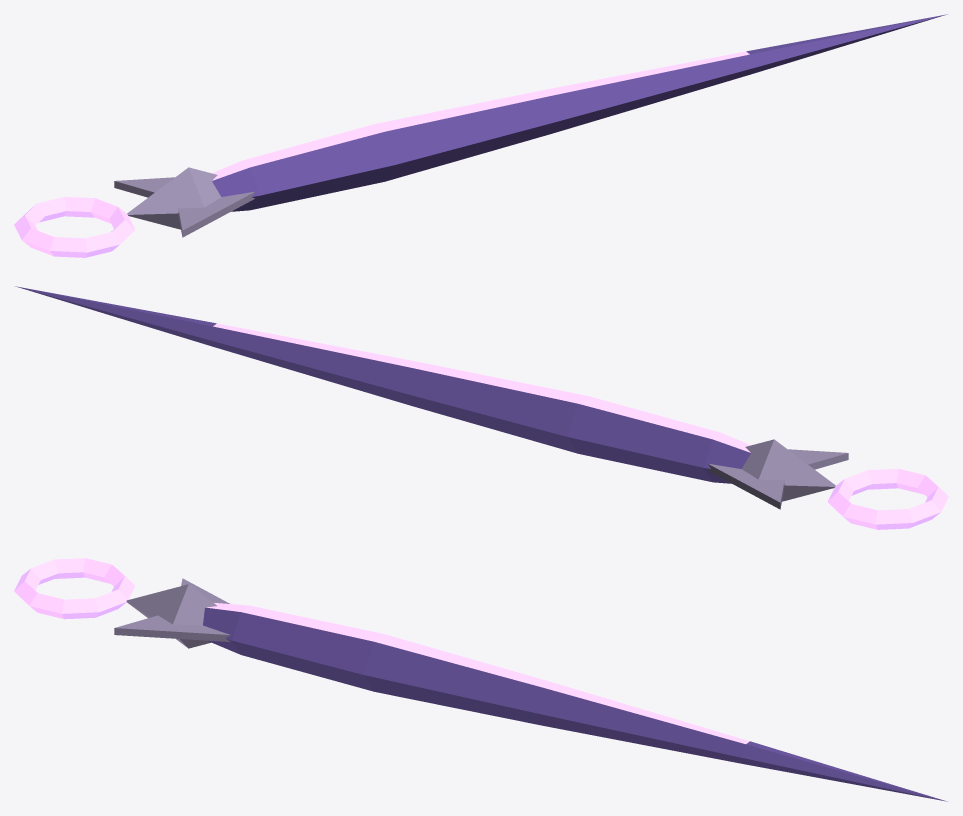
File: nyx-blade.glb
The picture shows the model from 3 angles, top to bottom: view 1: azimuth 30°, elevation 25°; view 2: azimuth 150°, elevation 25°; view 3: azimuth 330°, elevation 25°; orthographic projection.
Parts seen in each view (by area): view 1: NYX_BLADE; view 2: NYX_BLADE; view 3: NYX_BLADE.
Part boxes in pixels (x1=…): NYX_BLADE: x1=14, y1=14, x2=947, y2=257; NYX_BLADE: x1=15, y1=286, x2=948, y2=529; NYX_BLADE: x1=14, y1=558, x2=947, y2=801.
Bounding box in the file's own units: 1.38 × 0.092 × 0.176.
